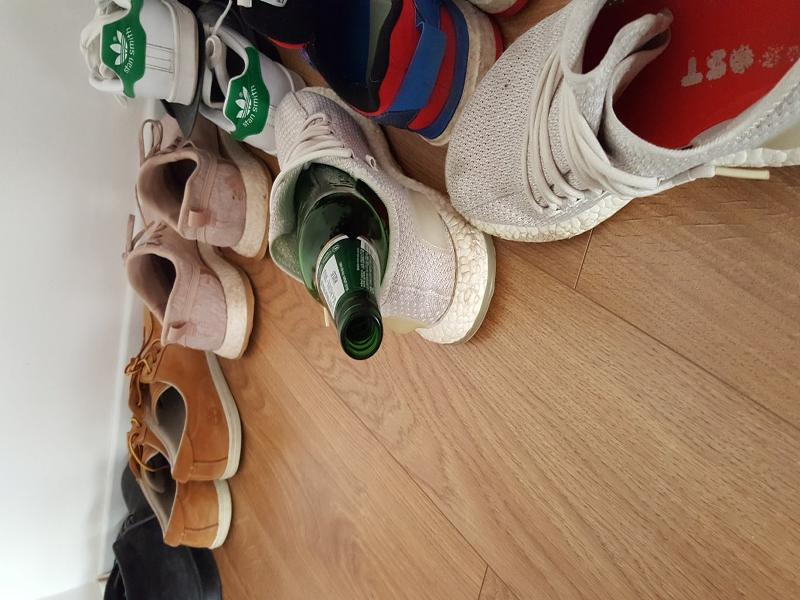Beer: (293, 165, 384, 360)
